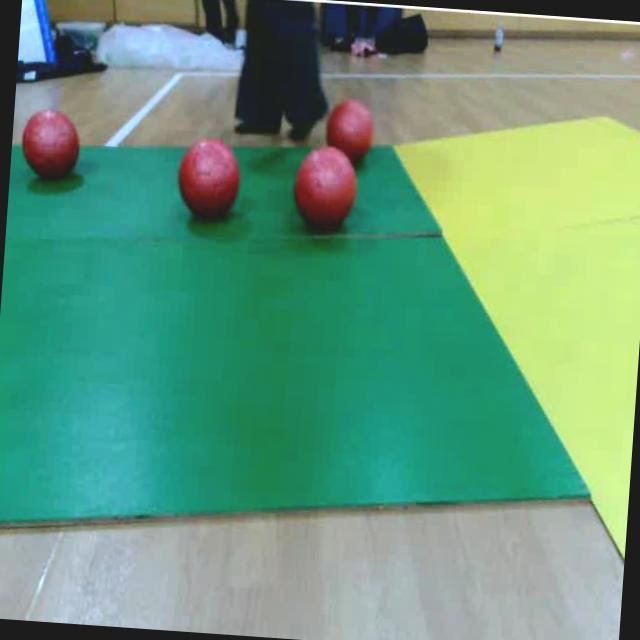red_ball: (289, 138, 363, 240), (175, 130, 246, 230), (20, 101, 84, 187), (324, 93, 378, 166)
